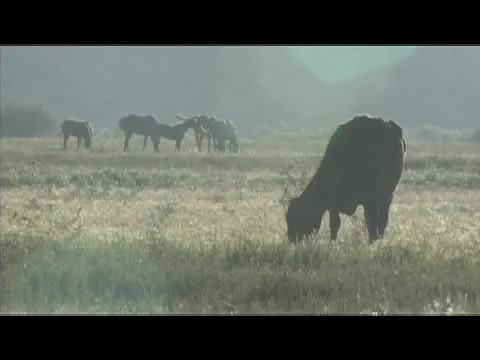cow: (284, 117, 410, 245), (117, 114, 167, 155), (150, 117, 198, 154), (202, 115, 240, 153), (60, 119, 96, 154), (213, 118, 238, 149)
